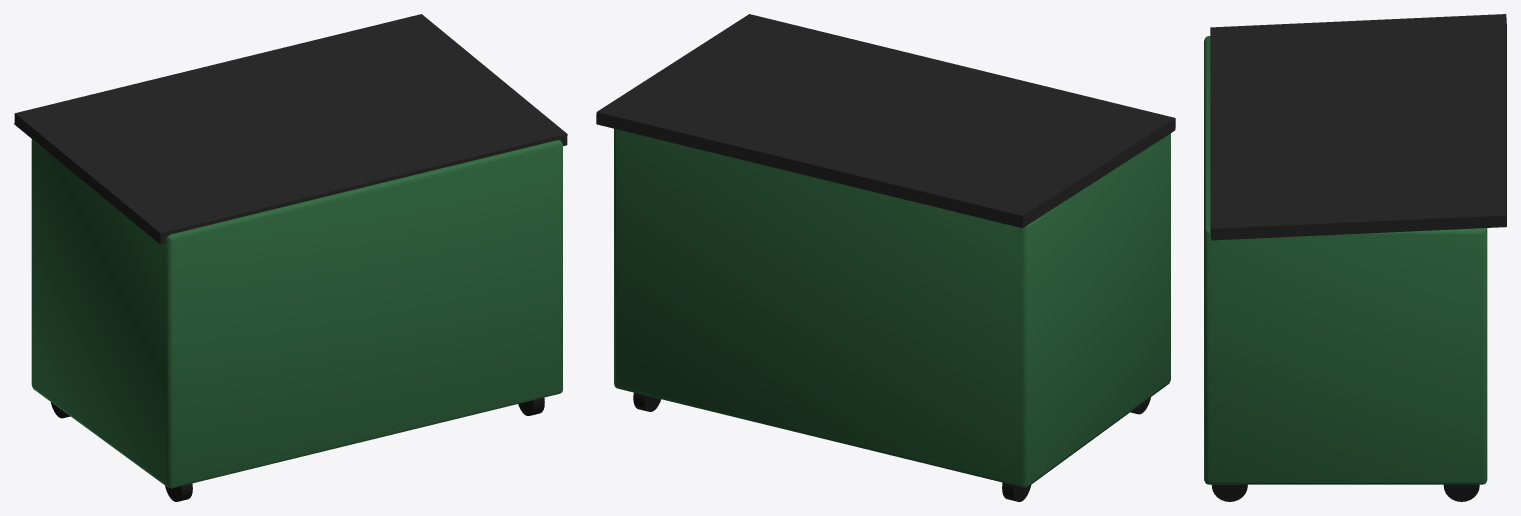
Rendered from dumpster.glb.
3 renders of one model, left to right at view 1: azimuth 30°, elevation 25°; view 2: azimuth 150°, elevation 25°; view 3: azimuth 270°, elevation 25°, orthographic. The views are drawn at different scales.
Parts seen in each view (by area): view 1: dumpster; view 2: dumpster; view 3: dumpster.
Boxes of the visible parts, x1,y1,x2,y2 form: dumpster: [14, 14, 567, 501]; dumpster: [596, 14, 1175, 501]; dumpster: [1204, 14, 1506, 501].
Size of the model in its own units: 1.85 by 1.27 by 1.18.
